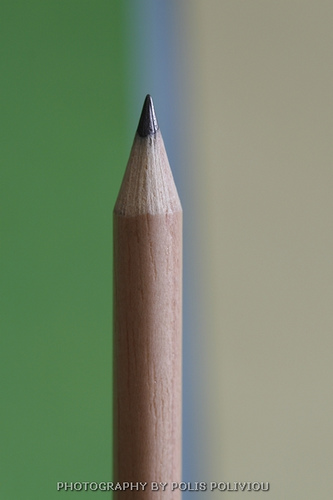pen_tip: (110, 87, 188, 250)
